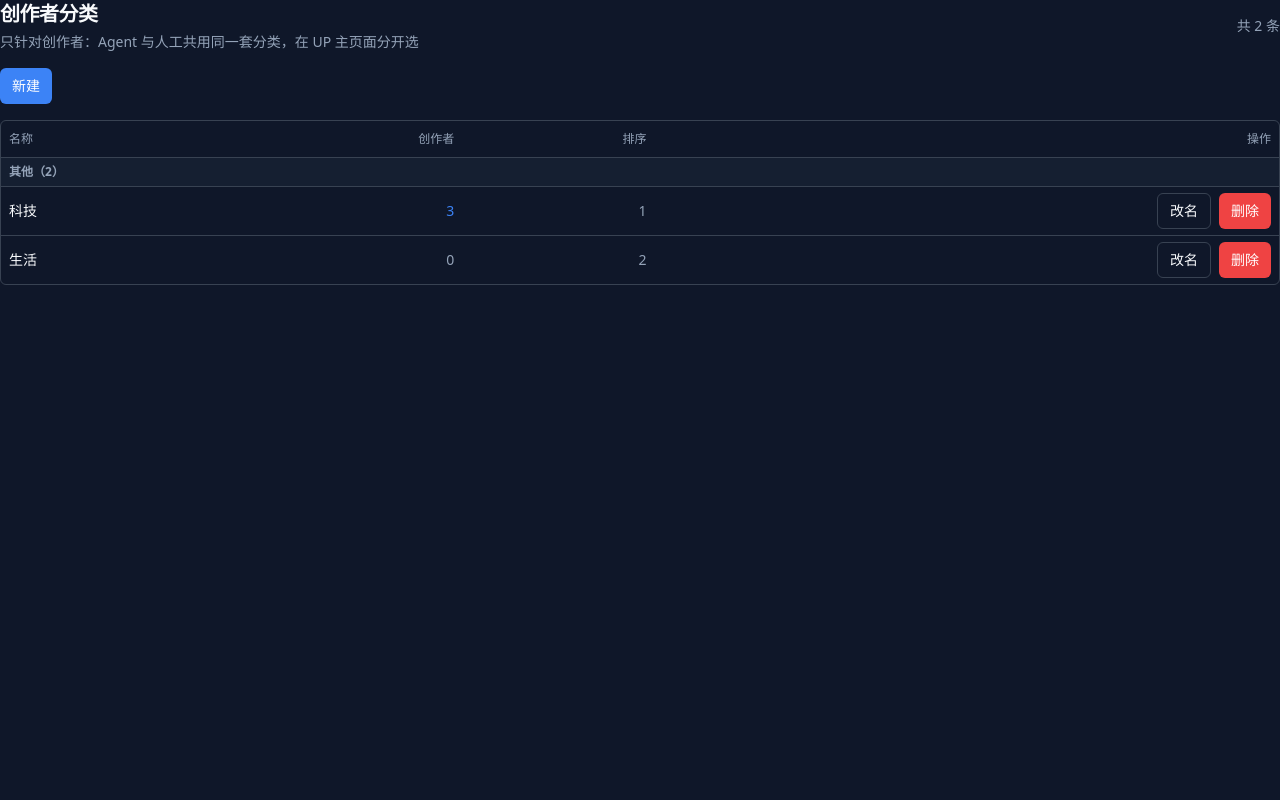
Test: 新建：Dialog 输入保存 → POST + toast + 关闭 + reload
Check: the text "科技" is shown, box [1,186,212,235]
Click the button "新建" at [26, 86], box [0,68,52,104]
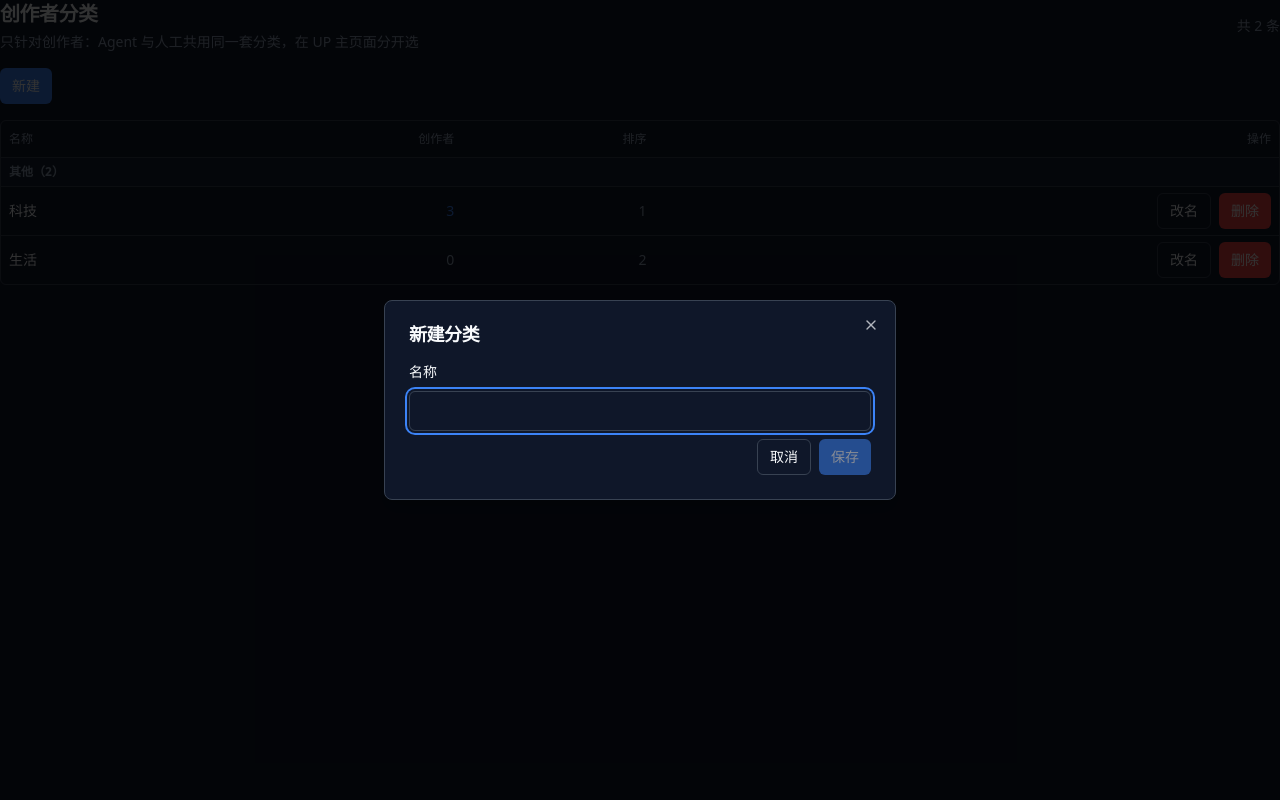
Type "游戏" into the field labelled "名称" at [640, 411], box [409,391,871,431]
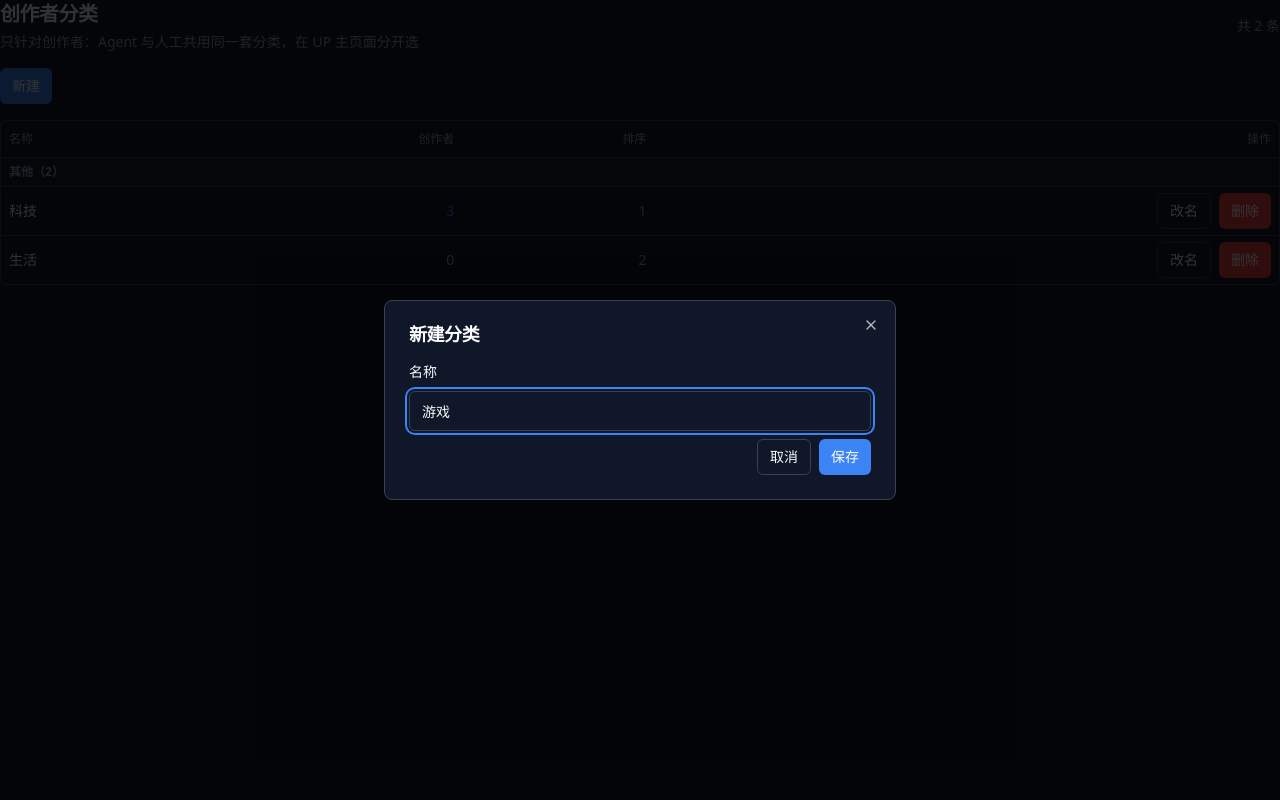
Click the button "保存" at [845, 457], box [819,439,871,475]
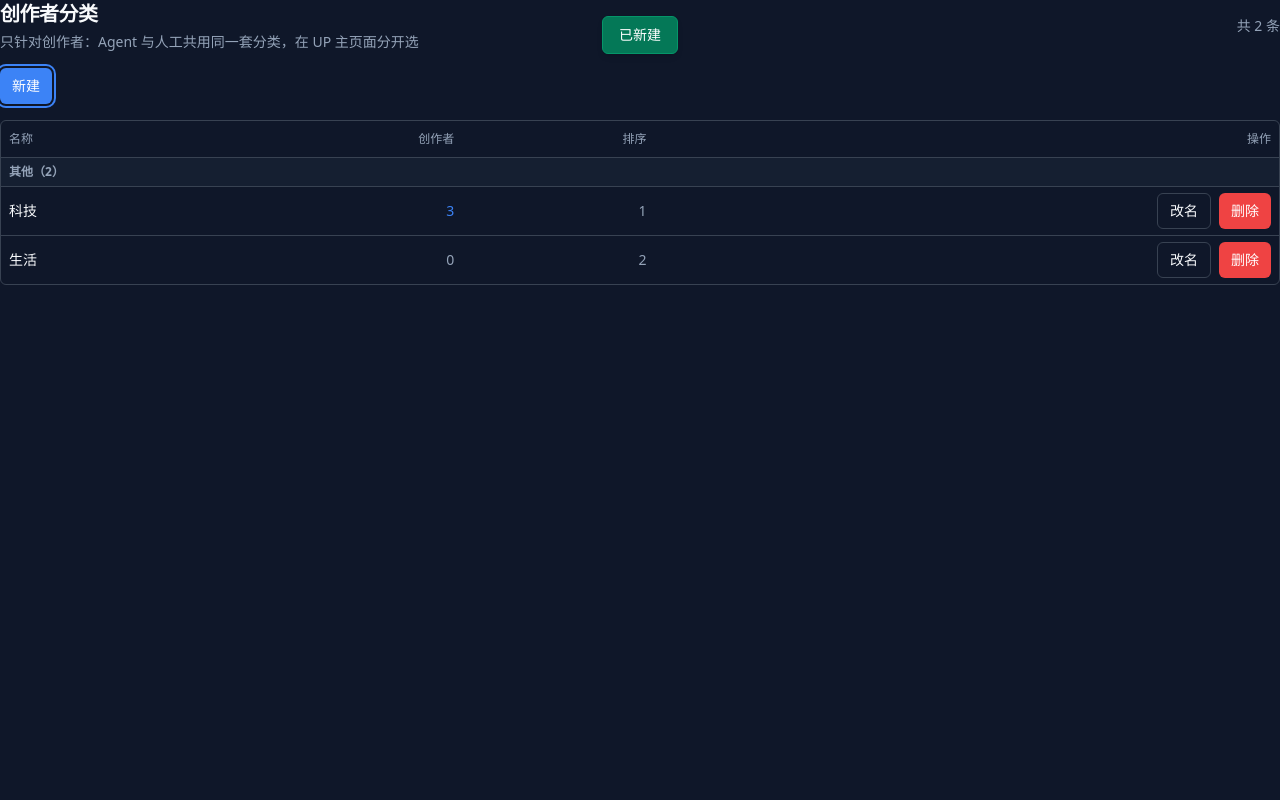
Check: the text "已新建" is shown, box [602,16,678,54]
